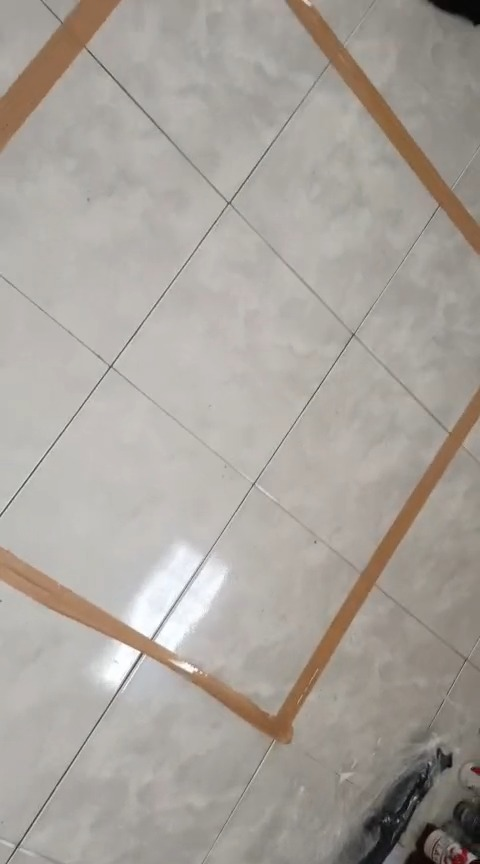floor marking: (2, 387, 479, 742), (287, 0, 479, 254), (2, 0, 119, 149)
